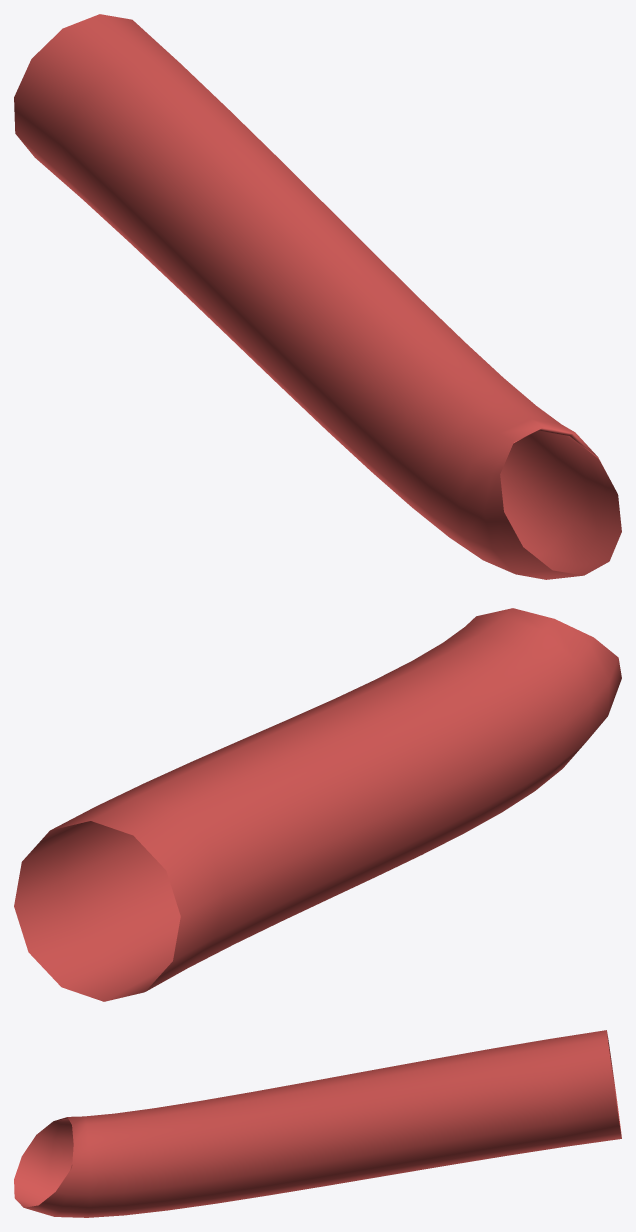
The picture shows the model from 3 angles, top to bottom: view 1: azimuth 30°, elevation 25°; view 2: azimuth 150°, elevation 25°; view 3: azimuth 270°, elevation 25°; orthographic projection. The views are drawn at different scales.
Parts seen in each view (by area): view 1: 左侧甲状颈干; view 2: 左侧甲状颈干; view 3: 左侧甲状颈干.
Part boxes in pixels (box(x1,y1,x2,y2)): 左侧甲状颈干: box(14, 14, 621, 579); 左侧甲状颈干: box(14, 608, 621, 1001); 左侧甲状颈干: box(14, 1030, 621, 1217).
Bounding box in the file's own units: 0.00387 × 0.00545 × 0.0179.
